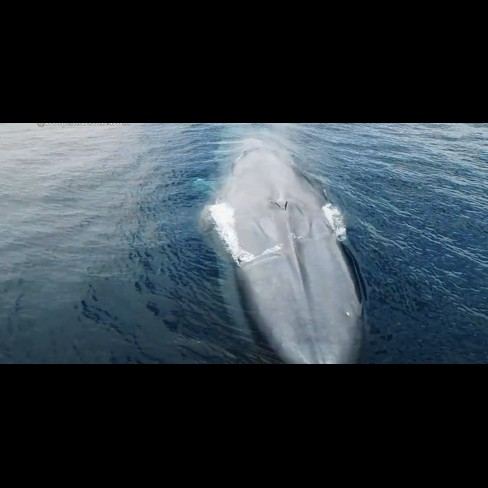bluewhale: (189, 124, 376, 365)
